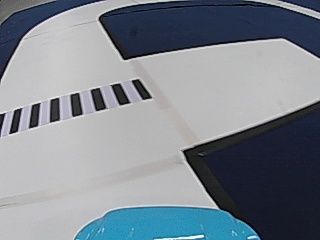CrossWalk: (3, 79, 150, 132)
